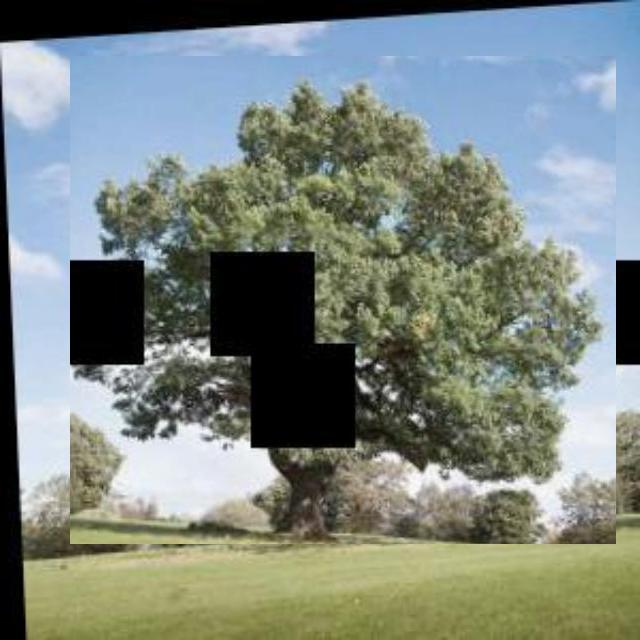tree: (70, 56, 616, 544)
